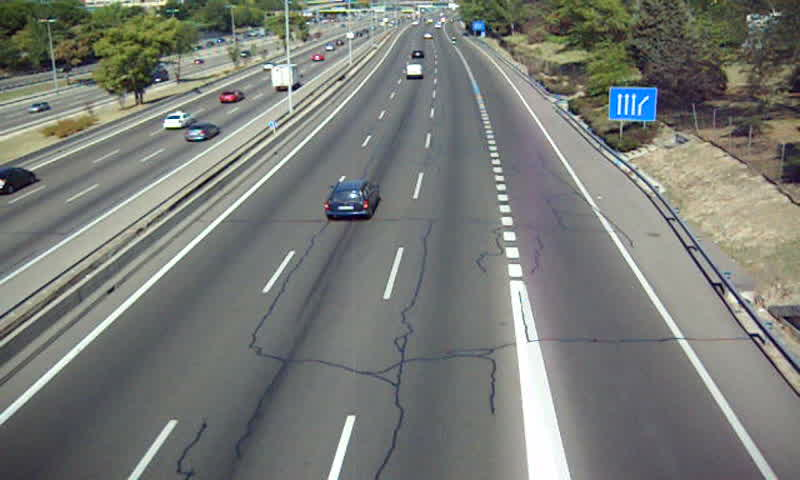car: (324, 182, 378, 217), (410, 48, 428, 59)
van: (405, 64, 425, 79)
